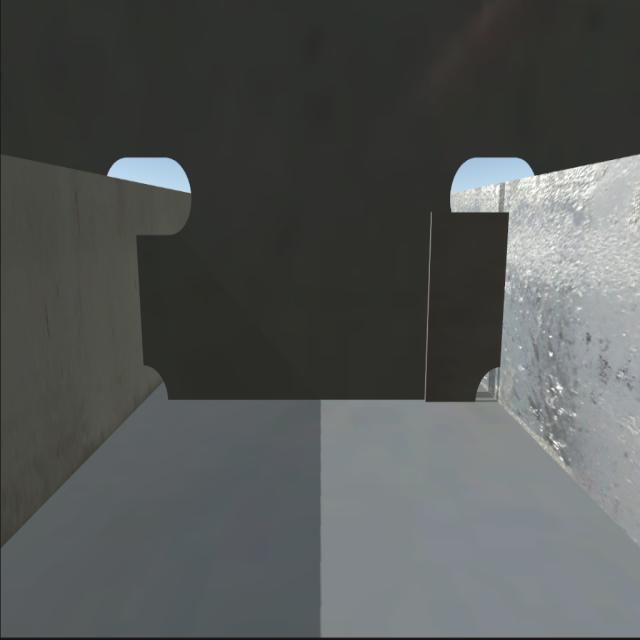fillet_hole: (475, 363, 503, 402), (143, 363, 170, 402)
fillet_yong_jeop_jang: (165, 391, 474, 409)
longi_yong_jeop_jang: (498, 214, 512, 362), (134, 239, 150, 362)
plate_CP01: (427, 210, 505, 394)
